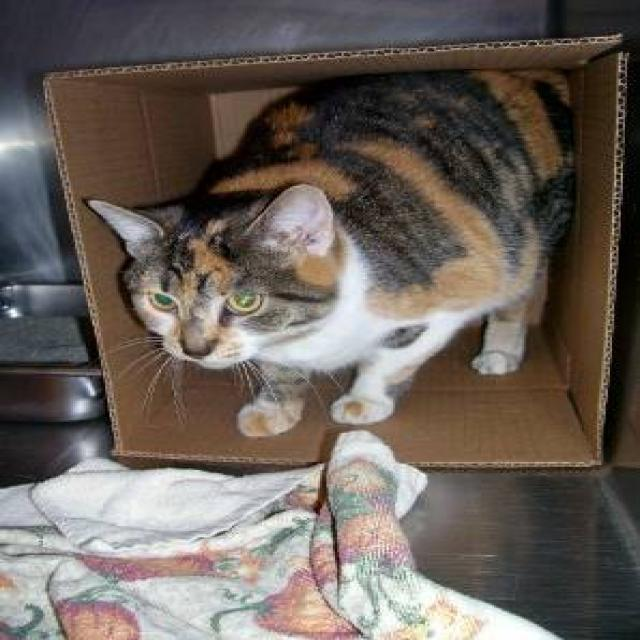cat: (79, 66, 578, 438)
